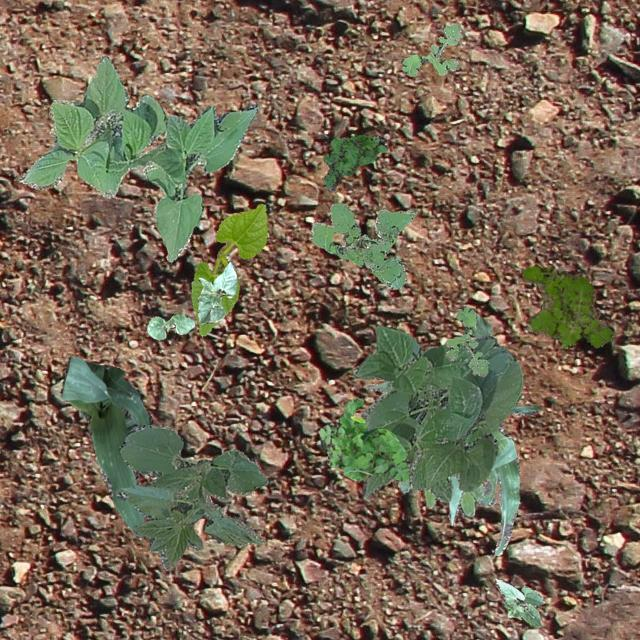crop: (16, 54, 258, 260), (352, 324, 522, 502), (115, 424, 268, 570), (60, 354, 152, 536), (448, 404, 540, 554), (190, 202, 266, 334), (494, 576, 544, 626), (196, 260, 236, 322), (468, 312, 509, 353), (146, 314, 194, 338), (366, 381, 392, 392)
weed: (310, 202, 416, 288), (318, 396, 410, 481), (520, 266, 610, 348), (396, 478, 494, 516), (322, 134, 386, 190), (401, 22, 462, 74), (444, 306, 488, 376)
